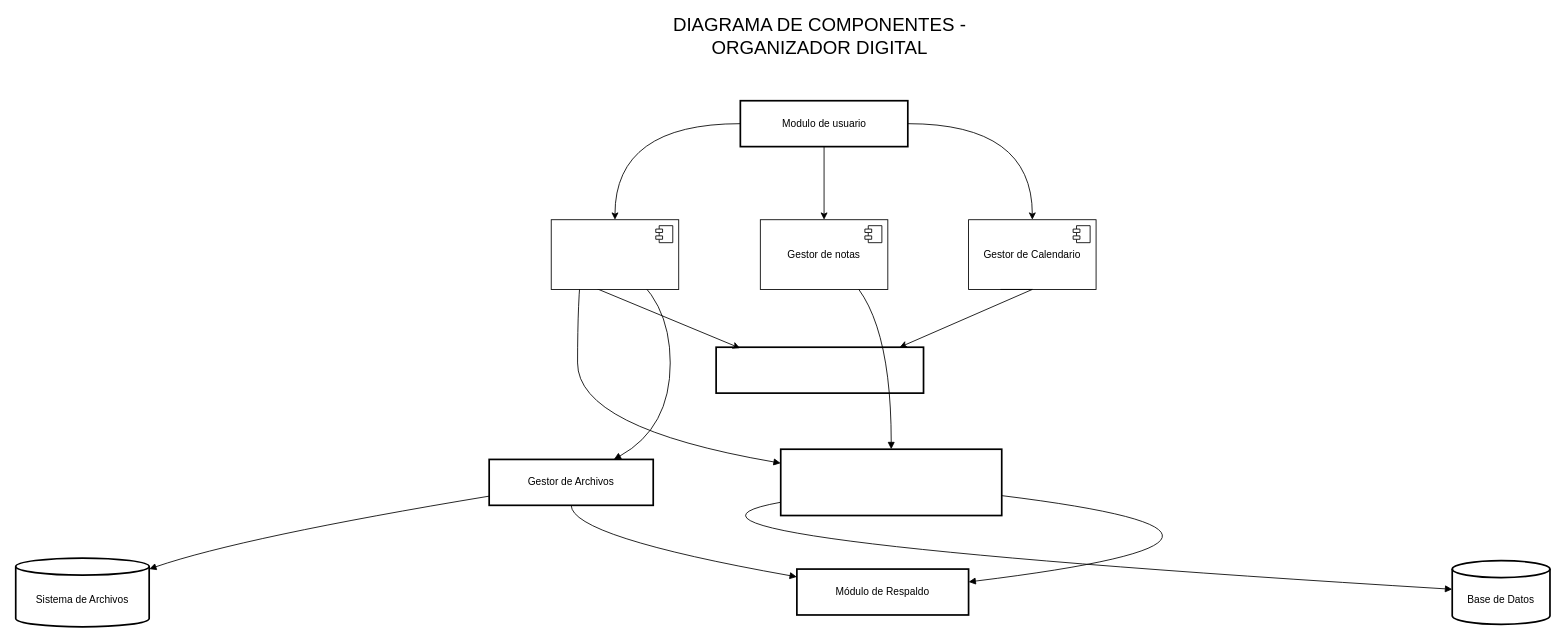
Image size: 1565x643. Some labels were removed from this diagram. The shapes that lost their labels are listed below. From the top down, each one's centre as x and y in pixels, then its label:
the point at 614,254: Gestor de tareas
the point at 819,370: Sistema de Notificaciones
the point at 890,482: Sistema de Almacenamiento de Datos
